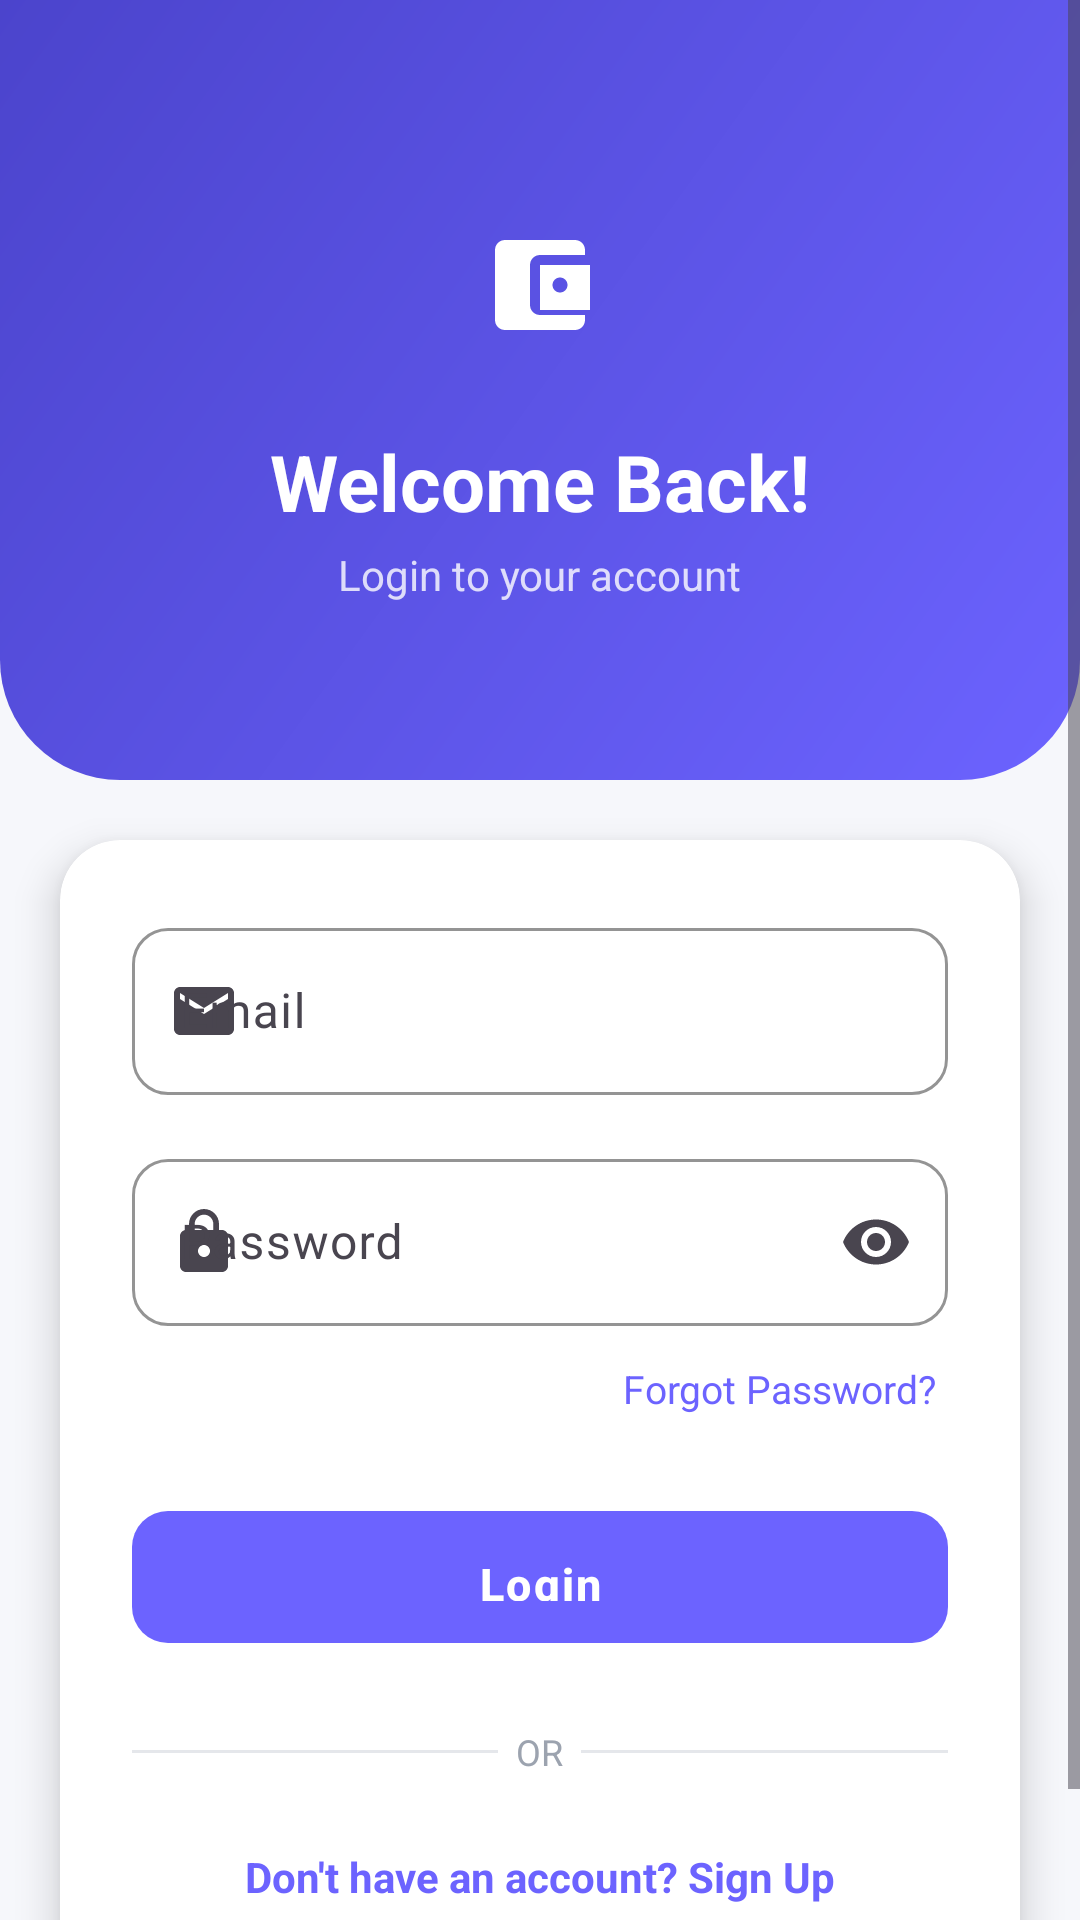

Named icons in this screenshot (1080 × 1920) and their centers, (x,y):
wallet: (542,285)
